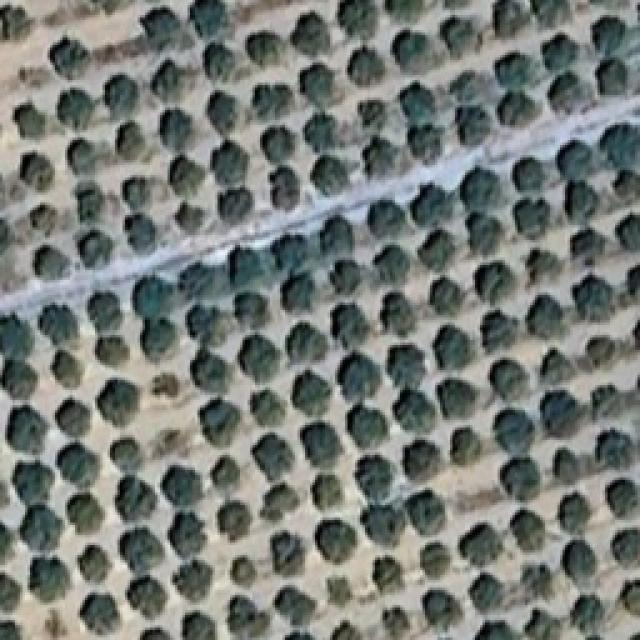Tree: (338, 351, 382, 402), (252, 431, 297, 480), (119, 528, 164, 574), (20, 504, 63, 552), (96, 379, 139, 427), (7, 405, 48, 455), (199, 398, 240, 447), (300, 421, 343, 467), (493, 409, 536, 455), (240, 334, 281, 382), (573, 274, 614, 322), (178, 261, 229, 299), (56, 444, 100, 488), (459, 523, 503, 567), (392, 30, 437, 73), (11, 461, 54, 506), (410, 183, 453, 228), (330, 303, 369, 352), (133, 275, 177, 318), (540, 390, 581, 436), (168, 511, 207, 559), (393, 389, 436, 432), (37, 304, 82, 345), (29, 557, 70, 602), (115, 477, 156, 522), (190, 348, 231, 393), (360, 505, 405, 546), (347, 404, 388, 449), (291, 370, 331, 416), (600, 123, 640, 169), (355, 455, 393, 503), (315, 520, 356, 564), (228, 595, 269, 639), (474, 261, 515, 305), (290, 12, 330, 57), (386, 344, 426, 389), (405, 490, 445, 535), (500, 457, 540, 502), (460, 166, 500, 211), (186, 303, 228, 345), (440, 16, 481, 59), (49, 36, 90, 79), (162, 465, 203, 508), (434, 324, 473, 369), (211, 140, 249, 186), (0, 311, 36, 359), (127, 576, 168, 618), (140, 8, 180, 51), (138, 319, 178, 362), (274, 586, 317, 626), (406, 121, 445, 165), (496, 90, 541, 128), (396, 81, 437, 122), (489, 359, 529, 401), (526, 294, 563, 339), (494, 53, 540, 89), (173, 560, 213, 601), (310, 154, 349, 196), (362, 136, 400, 179), (87, 292, 125, 335), (417, 229, 455, 272), (480, 310, 518, 353), (467, 211, 503, 256), (104, 74, 139, 120), (272, 531, 307, 577), (286, 324, 326, 364), (423, 590, 462, 631), (437, 379, 478, 418), (228, 245, 264, 289), (380, 293, 416, 337), (300, 63, 334, 109), (338, 0, 378, 39), (367, 200, 407, 239), (595, 429, 634, 469), (58, 88, 94, 131), (169, 155, 205, 198), (319, 217, 355, 260), (514, 196, 550, 239), (0, 359, 39, 398), (541, 33, 579, 73), (347, 46, 385, 86), (253, 84, 293, 122), (66, 495, 104, 535), (372, 245, 410, 285), (548, 71, 583, 114), (562, 540, 597, 583), (260, 483, 299, 521), (557, 140, 593, 181), (510, 509, 545, 551), (190, 0, 228, 38), (492, 0, 530, 38), (404, 440, 440, 480), (455, 105, 490, 146), (159, 109, 192, 152), (249, 389, 287, 426), (270, 234, 308, 271), (55, 399, 91, 438), (592, 16, 627, 56), (429, 276, 464, 316), (207, 91, 238, 136), (281, 272, 315, 313), (558, 493, 592, 534), (218, 187, 254, 225), (570, 227, 606, 265), (78, 230, 113, 269), (20, 151, 54, 191), (218, 500, 252, 540), (469, 573, 503, 613), (605, 478, 639, 518), (124, 213, 157, 254), (234, 293, 270, 330), (32, 245, 70, 280), (540, 347, 575, 385), (78, 545, 112, 584), (304, 113, 337, 153), (270, 166, 300, 210), (152, 60, 183, 102), (247, 32, 283, 68), (260, 126, 295, 163), (570, 594, 604, 632), (203, 43, 236, 82), (210, 455, 240, 497), (527, 248, 562, 284), (81, 594, 114, 632), (51, 350, 84, 388), (75, 182, 104, 223), (13, 103, 46, 139), (595, 59, 628, 95), (373, 556, 404, 594), (110, 438, 143, 473), (531, 0, 572, 28), (451, 427, 481, 465), (115, 121, 144, 160), (0, 5, 31, 41), (312, 474, 343, 510), (420, 543, 451, 579), (525, 609, 561, 640), (513, 158, 544, 193), (330, 260, 361, 295), (591, 384, 621, 420), (611, 528, 640, 565), (67, 137, 95, 175), (522, 564, 553, 598), (449, 70, 480, 103), (567, 182, 598, 215), (96, 336, 130, 366), (552, 448, 580, 484), (183, 611, 217, 640), (122, 176, 150, 210), (382, 606, 410, 640), (615, 214, 640, 251), (30, 204, 58, 237), (175, 203, 204, 234), (358, 100, 387, 131), (153, 429, 184, 458), (586, 337, 615, 368), (612, 170, 640, 200), (385, 0, 423, 22), (0, 573, 20, 612), (230, 556, 256, 586), (327, 576, 353, 606), (475, 621, 515, 640), (44, 609, 68, 640), (151, 373, 179, 398), (621, 580, 640, 615), (0, 523, 14, 564), (331, 621, 361, 640), (0, 217, 12, 254), (626, 265, 640, 296), (140, 627, 171, 640), (0, 621, 21, 640), (284, 630, 315, 640), (0, 480, 10, 507), (632, 320, 640, 350), (444, 1, 470, 10), (585, 634, 604, 640), (629, 632, 640, 640), (636, 375, 640, 392)
